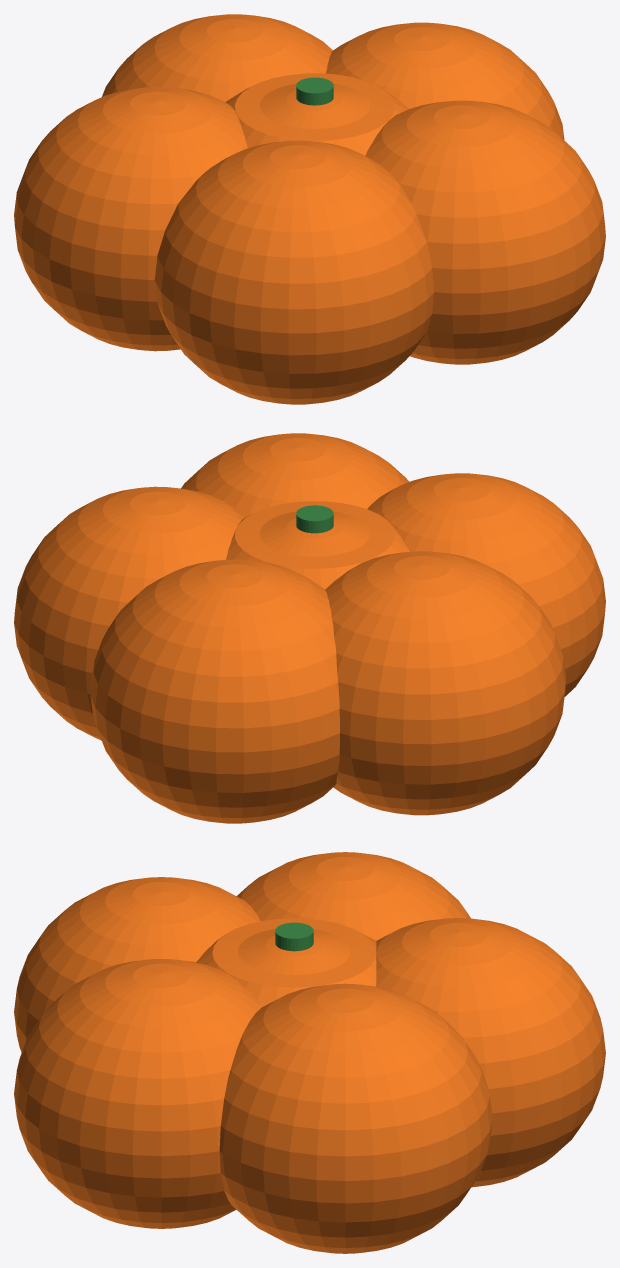
File: StarPumpkin.fbx
3 renders of one model, top to bottom at view 1: azimuth 30°, elevation 25°; view 2: azimuth 150°, elevation 25°; view 3: azimuth 270°, elevation 25°, orthographic. The views are drawn at different scales.
Parts seen in each view (by area): view 1: 円柱, 円柱.001; view 2: 円柱, 円柱.001; view 3: 円柱, 円柱.001.
Boxes of the visible parts, x1,y1,x2,y2 form: 円柱: (14, 14, 605, 404); 円柱.001: (296, 77, 333, 105); 円柱: (14, 433, 605, 823); 円柱.001: (296, 505, 333, 533); 円柱: (14, 852, 605, 1253); 円柱.001: (275, 922, 313, 951).
Size of the model in its own units: 370 by 163 by 361.
